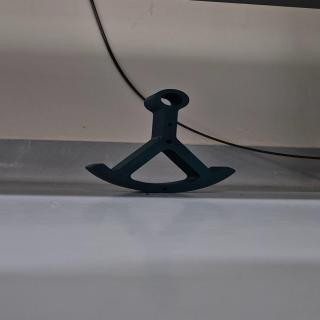haptic: (85, 89, 236, 193)
